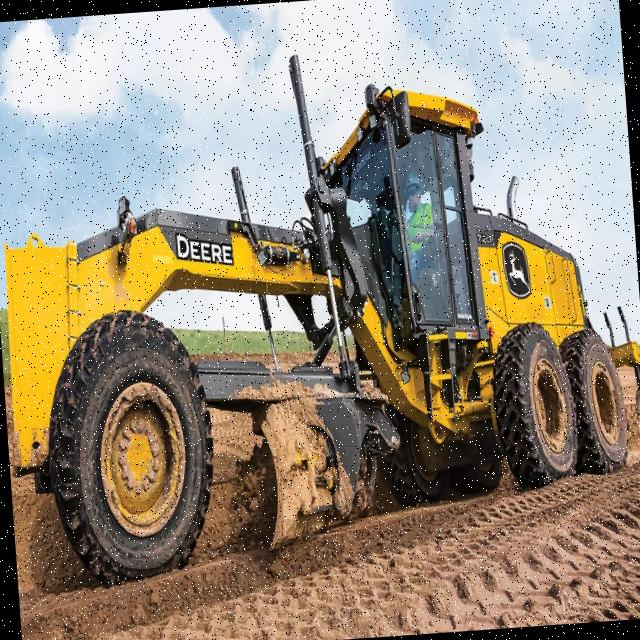Grader: (0, 47, 640, 602)
